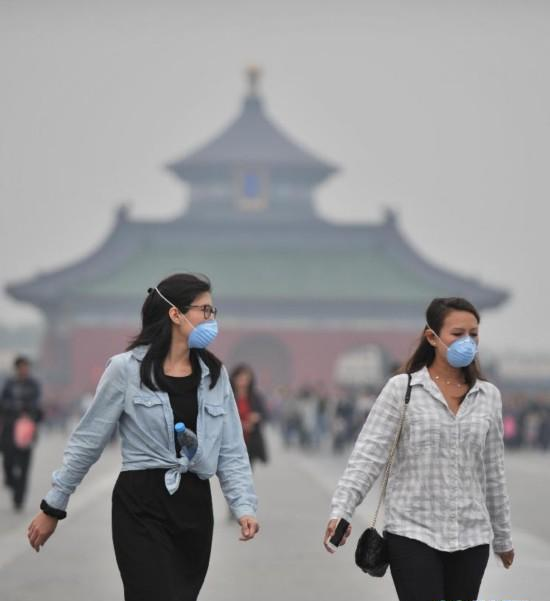person: (25, 271, 260, 601), (323, 295, 516, 601), (213, 362, 269, 526), (1, 352, 45, 518)
